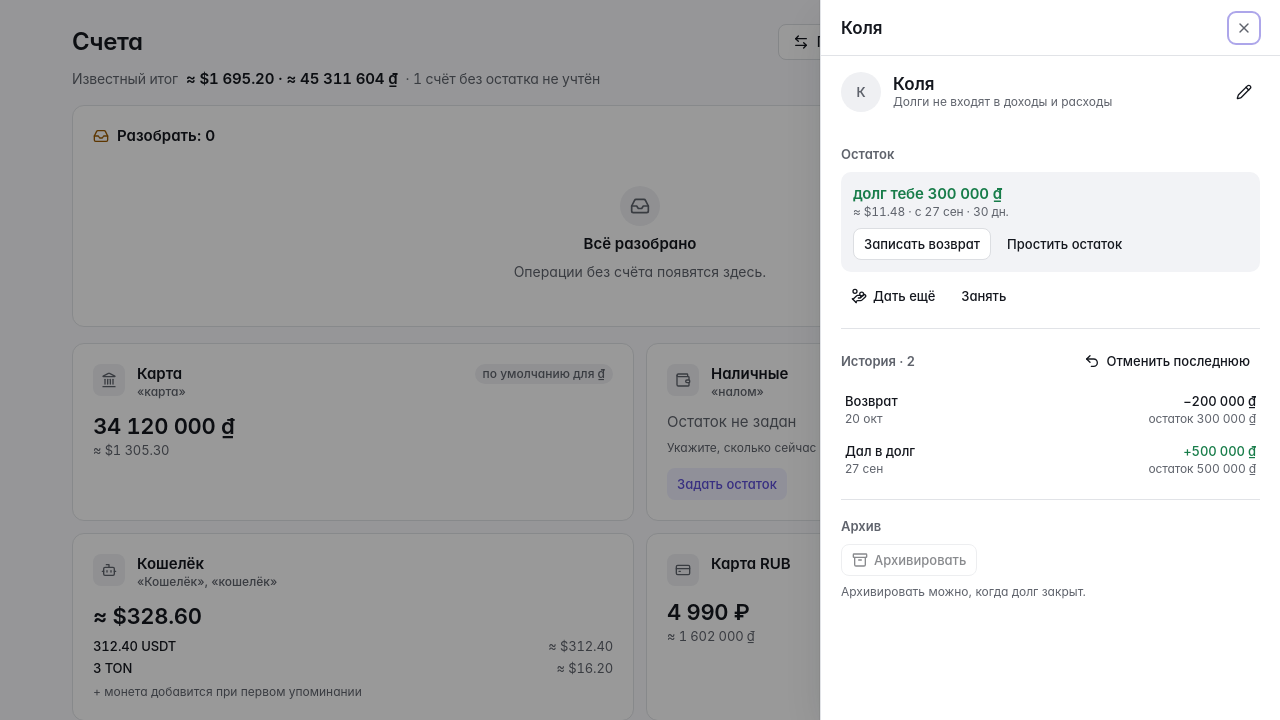
it: «Счета» → «Долги» › «Отменить последнюю»: the operation was edited since → undo the newest edit, not the 409 creation
Click the button with aria-label "Отменить последнюю операцию". click: (1167, 361)
box: x1=1074 y1=345 x2=1260 y2=377
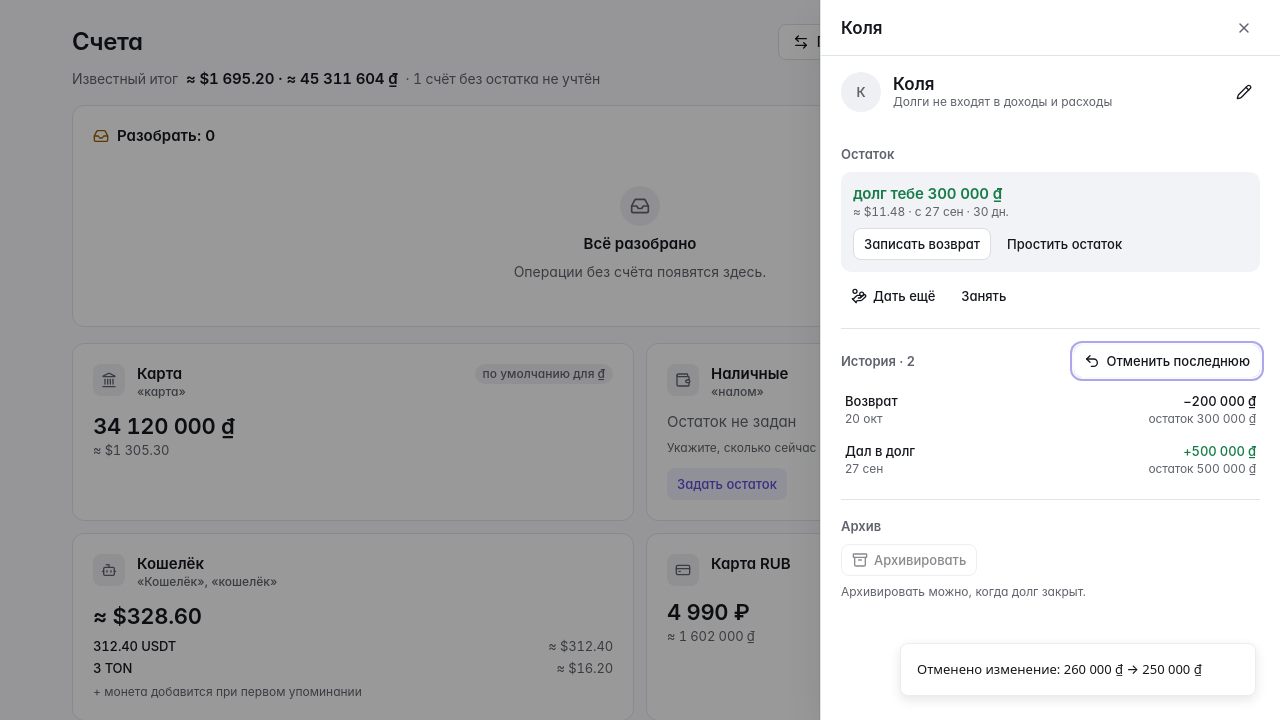
Now the text "Отменено изменение: 260 000 ₫ → 250 000 ₫" is shown, box x1=917 y1=660 x2=1202 y2=679
